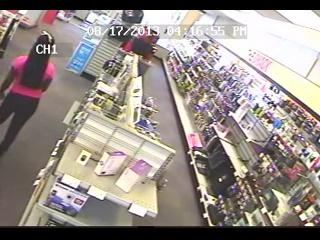Normal: (0, 30, 57, 158)
